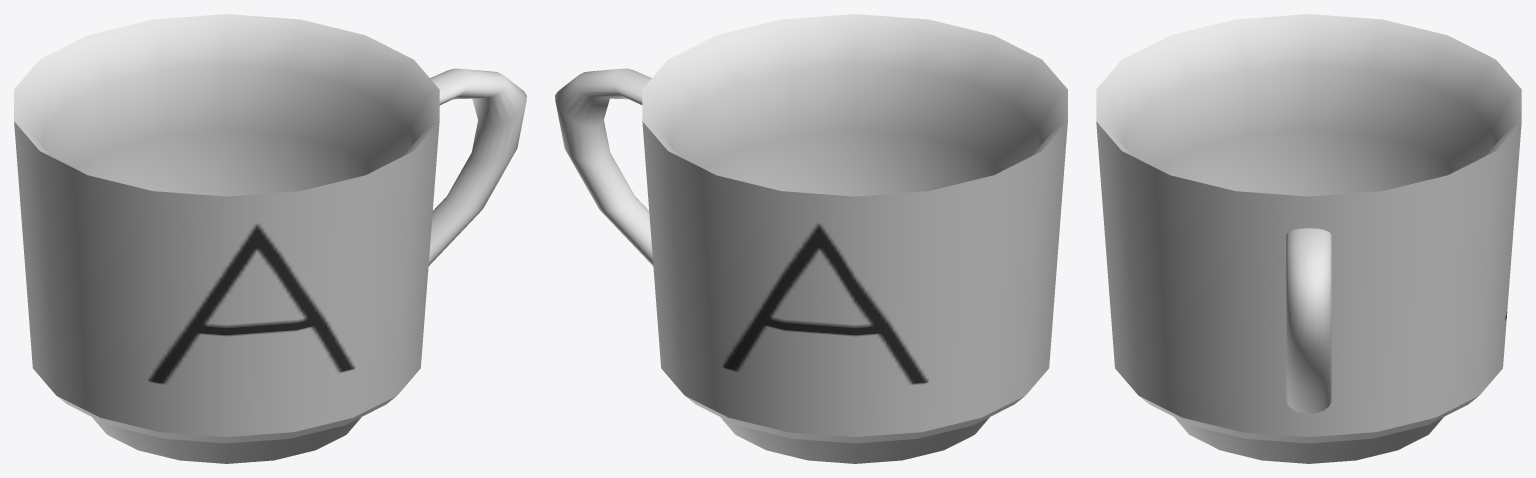
Rendered from Mug02.FBX.
The picture shows the model from 3 angles, left to right: view 1: azimuth 30°, elevation 25°; view 2: azimuth 150°, elevation 25°; view 3: azimuth 270°, elevation 25°; orthographic projection.
Parts seen in each view (by area): view 1: MugA005; view 2: MugA005; view 3: MugA005.
Part boxes in pixels (x1,y1,x2,y2): MugA005: [14, 14, 526, 463]; MugA005: [555, 14, 1067, 463]; MugA005: [1096, 14, 1521, 463].
Size of the model in its own units: 38.84 by 23 by 29.54.
